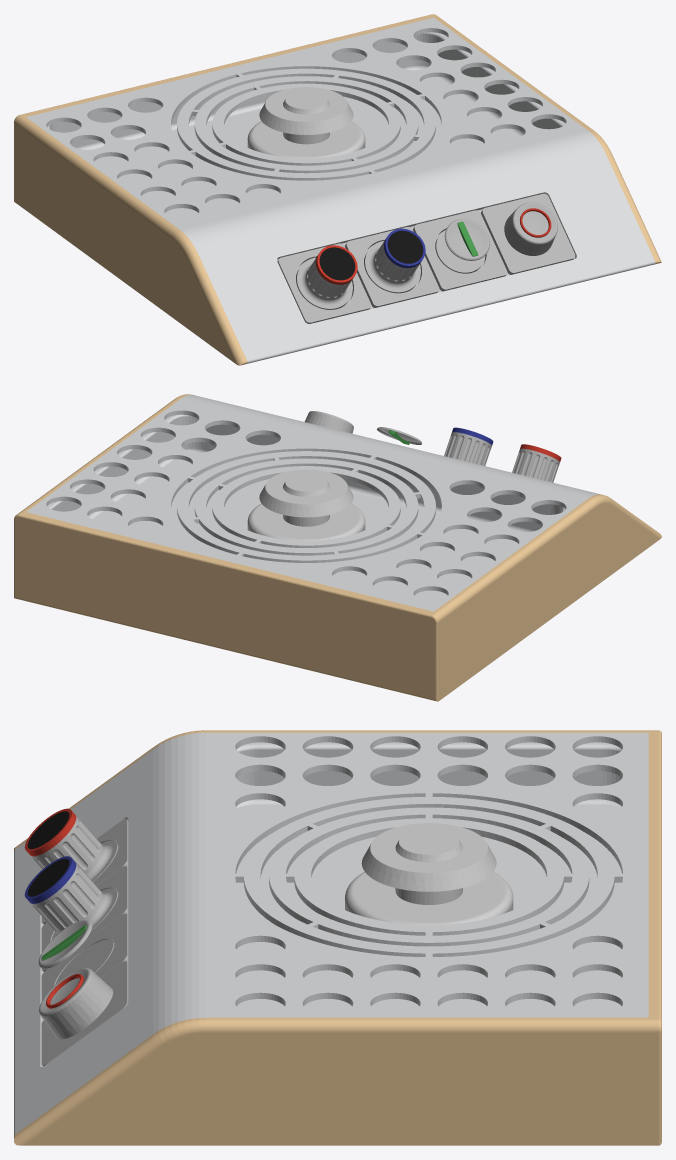
The model's file is bottomsup.glb.
3 views of the same model, one above another, from view 1: azimuth 30°, elevation 25°; view 2: azimuth 150°, elevation 25°; view 3: azimuth 270°, elevation 25° (orthographic). The views are drawn at different scales.
Visible parts, largest first — view 1: metal-1_2c2b2b, wood-1, buttons-1_93b2b2, x0-1-1-6, nozzle-1, buttons-1_b427ee, buttons-1_a3a946; view 2: wood-1, metal-1_2c2b2b, x0-1-1-6, nozzle-1, buttons-1_93b2b2; view 3: metal-1_2c2b2b, wood-1, x0-1-1-6, buttons-1_93b2b2, nozzle-1, buttons-1_b427ee, buttons-1_a3a946, metal-1_0d5d74, buttons-1_b44e90.
Boxes of the visible parts, box(x1,y1,x2,y2) form: metal-1_2c2b2b: box(26, 17, 655, 363); wood-1: box(14, 14, 661, 365); buttons-1_93b2b2: box(277, 193, 575, 323); x0-1-1-6: box(49, 33, 560, 218); nozzle-1: box(247, 87, 365, 158); buttons-1_b427ee: box(319, 231, 423, 280); buttons-1_a3a946: box(316, 208, 551, 284); wood-1: box(14, 394, 661, 701); metal-1_2c2b2b: box(26, 395, 599, 611); x0-1-1-6: box(52, 415, 564, 601); nozzle-1: box(247, 469, 365, 540); buttons-1_93b2b2: box(304, 411, 559, 482); metal-1_2c2b2b: box(14, 732, 648, 1135); wood-1: box(14, 730, 661, 1145); x0-1-1-6: box(236, 745, 621, 1013); buttons-1_93b2b2: box(30, 816, 128, 1066); nozzle-1: box(345, 823, 513, 924); buttons-1_b427ee: box(27, 811, 69, 896); buttons-1_a3a946: box(24, 808, 83, 1008); metal-1_0d5d74: box(240, 742, 621, 750); buttons-1_b44e90: box(24, 856, 76, 903).
Size of the model in its own units: 0.208 by 0.0509 by 0.1921.
